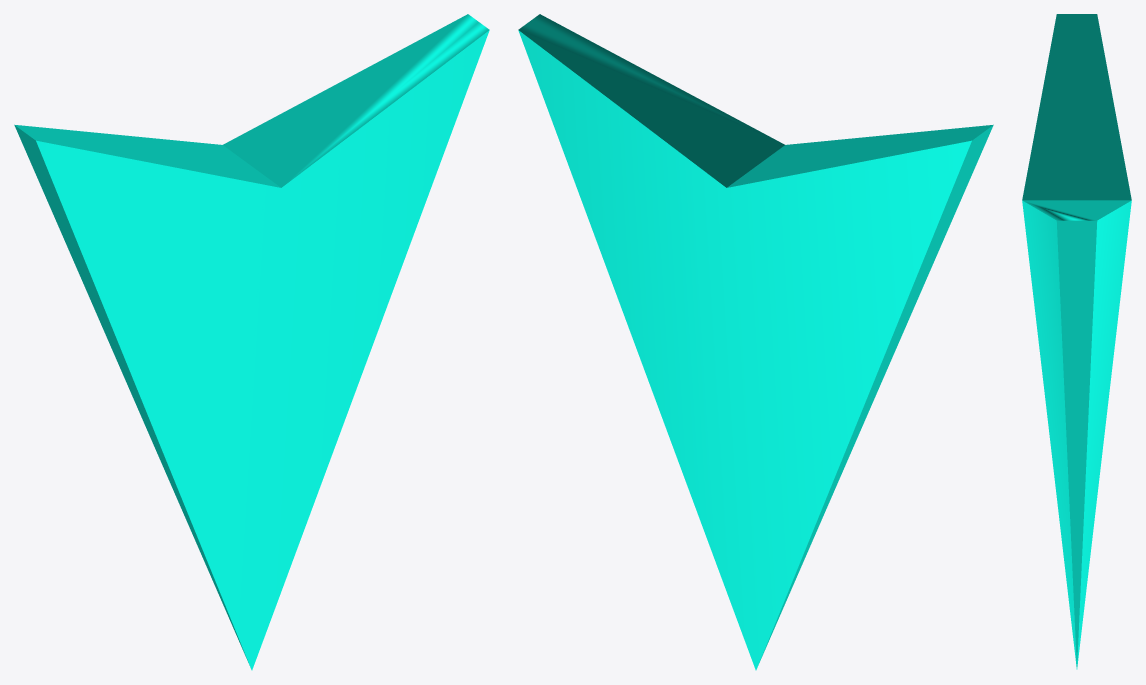
The model's file is blue.gltf.
3 views of the same model, side by side, from view 1: azimuth 30°, elevation 25°; view 2: azimuth 150°, elevation 25°; view 3: azimuth 270°, elevation 25° (orthographic). The views are drawn at different scales.
Visible parts, largest first — view 1: dingwei; view 2: dingwei; view 3: dingwei.
Boxes of the visible parts, <box> form: dingwei: <box>14,14,489,670</box>; dingwei: <box>518,14,993,670</box>; dingwei: <box>1022,14,1131,669</box>.
Size of the model in its own units: 16.78 by 20.97 by 3.76.
